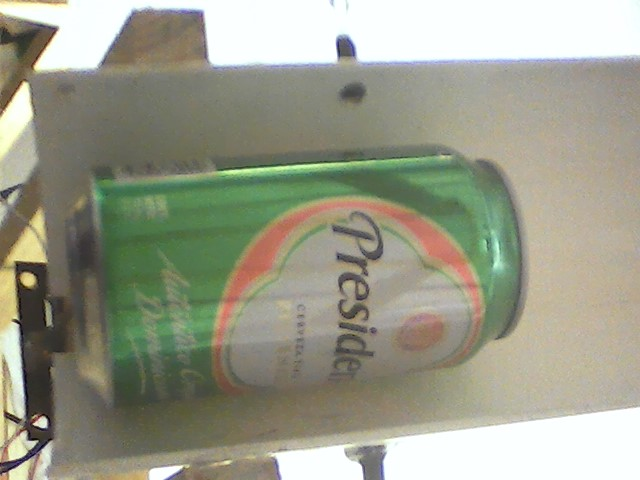lata: (50, 134, 543, 432)
